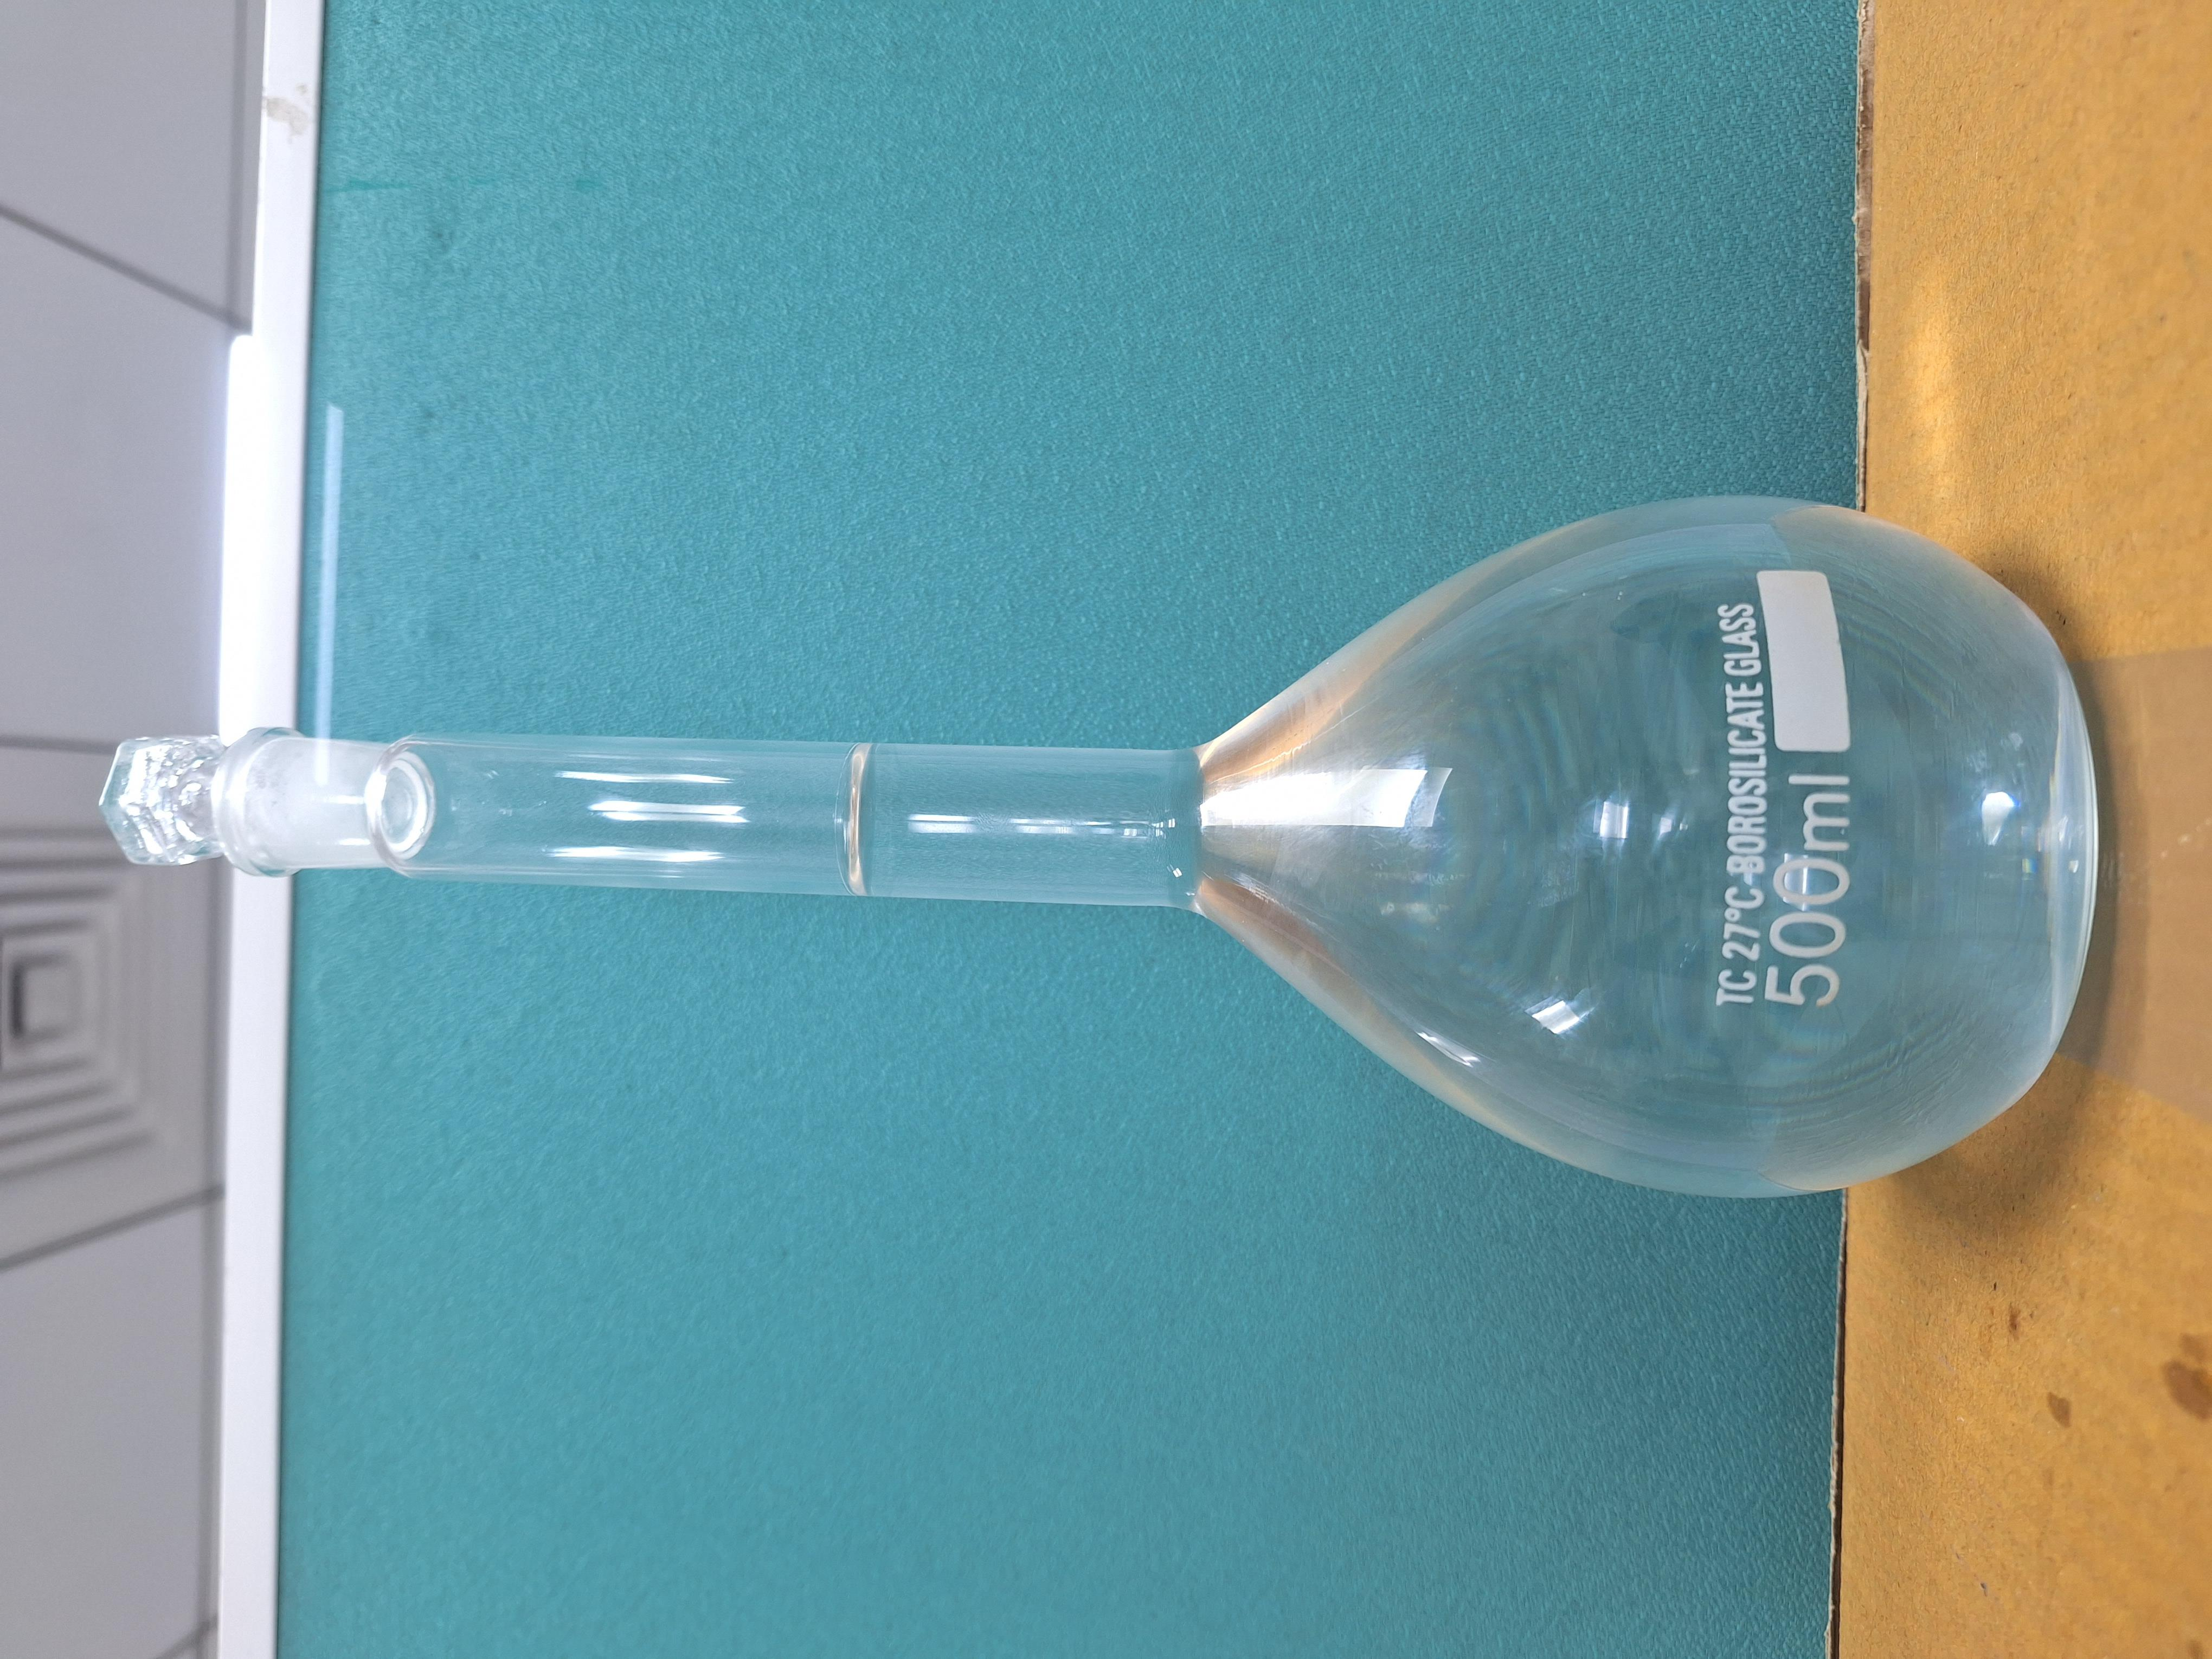Volumetric flask: (597, 35, 1577, 1580)
